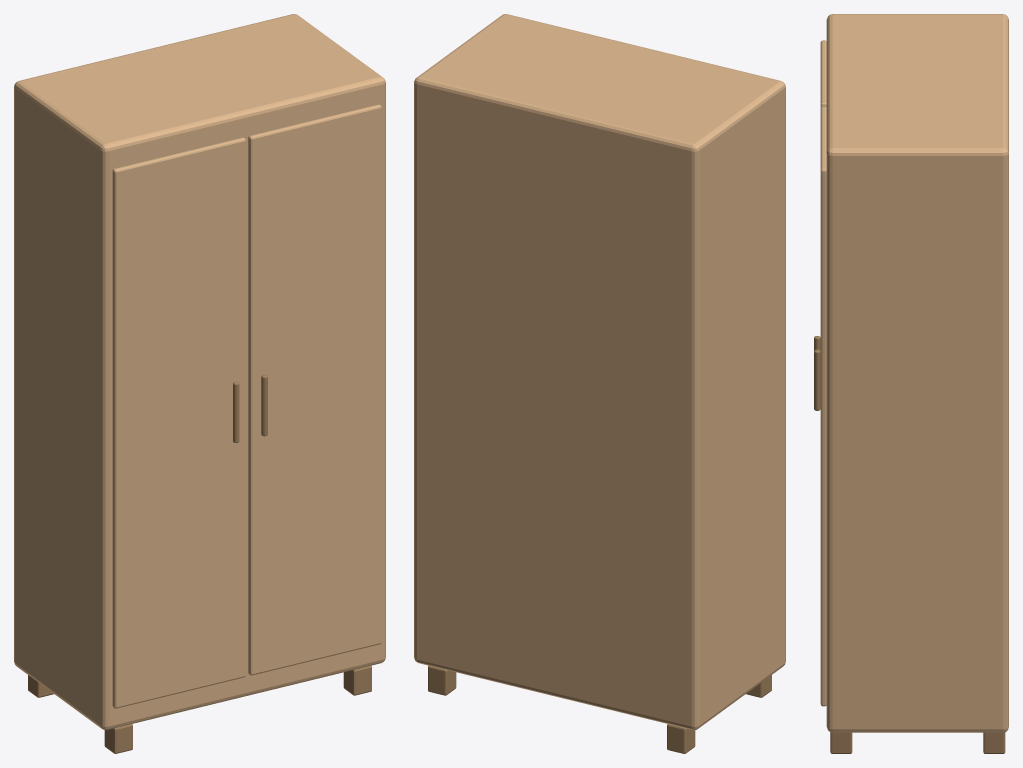
File: doors__entries___window_views_asset_sheet_20.glb
3 views of the same model, side by side, from view 1: azimuth 30°, elevation 25°; view 2: azimuth 150°, elevation 25°; view 3: azimuth 270°, elevation 25° (orthographic).
Parts seen in each view (by area): view 1: Cube; view 2: Cube; view 3: Cube.
Part boxes in pixels (<box>): Cube: <box>14,14,385,753</box>; Cube: <box>414,14,785,753</box>; Cube: <box>814,14,1008,753</box>.
Size of the model in its own units: 0.9 by 1.85 by 0.535.
